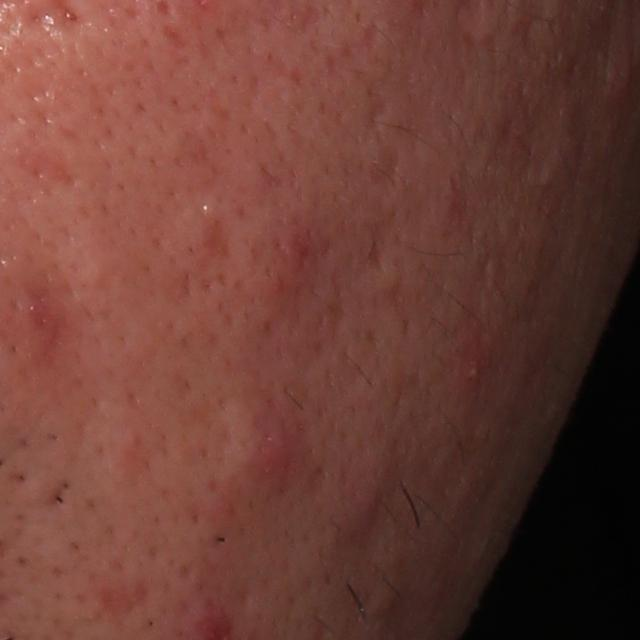papule: (224, 404, 305, 496), (263, 217, 333, 302), (322, 465, 397, 542)
